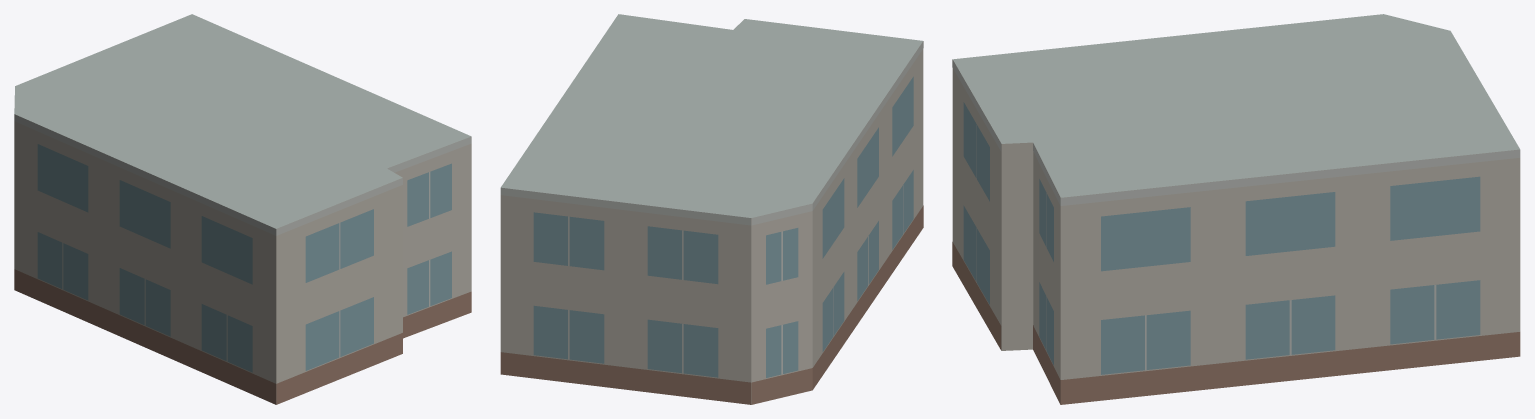
Rendered from survey-upis-32675685.glb.
The picture shows the model from 3 angles, left to right: view 1: azimuth 30°, elevation 25°; view 2: azimuth 150°, elevation 25°; view 3: azimuth 270°, elevation 25°; orthographic projection. The views are drawn at different scales.
Visible parts, largest first — view 1: survey-upis-32675685.tmp; view 2: survey-upis-32675685.tmp; view 3: survey-upis-32675685.tmp.
Part boxes in pixels (<box>): survey-upis-32675685.tmp: <box>14,14,471,404</box>; survey-upis-32675685.tmp: <box>500,14,923,404</box>; survey-upis-32675685.tmp: <box>952,14,1520,404</box>.
Bounding box in the file's own units: 11.62 × 6.1 × 15.17.
